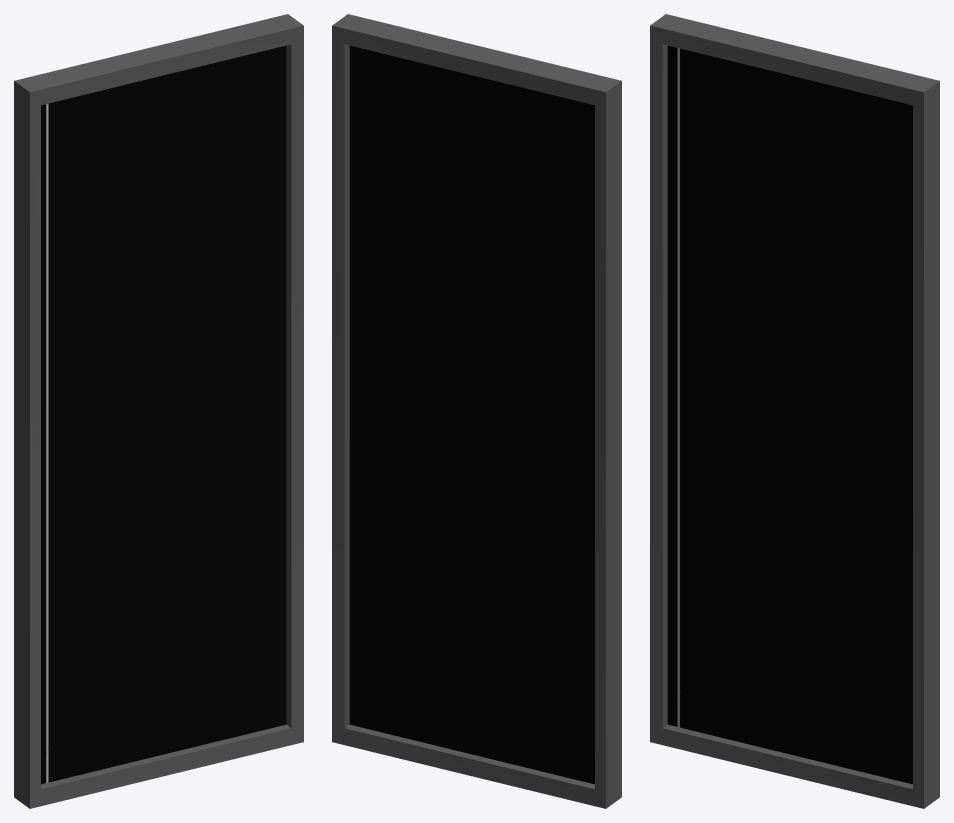
File: Raam1.fbx
The picture shows the model from 3 angles, left to right: view 1: azimuth 30°, elevation 25°; view 2: azimuth 150°, elevation 25°; view 3: azimuth 330°, elevation 25°; orthographic projection.
Parts seen in each view (by area): view 1: polySurface1; view 2: polySurface1; view 3: polySurface1.
Part boxes in pixels (x1,y1,x2,y2): polySurface1: (14,14,303,808); polySurface1: (332,14,621,808); polySurface1: (650,14,939,808).
Size of the model in its own units: 1 by 2.5 by 0.1.
